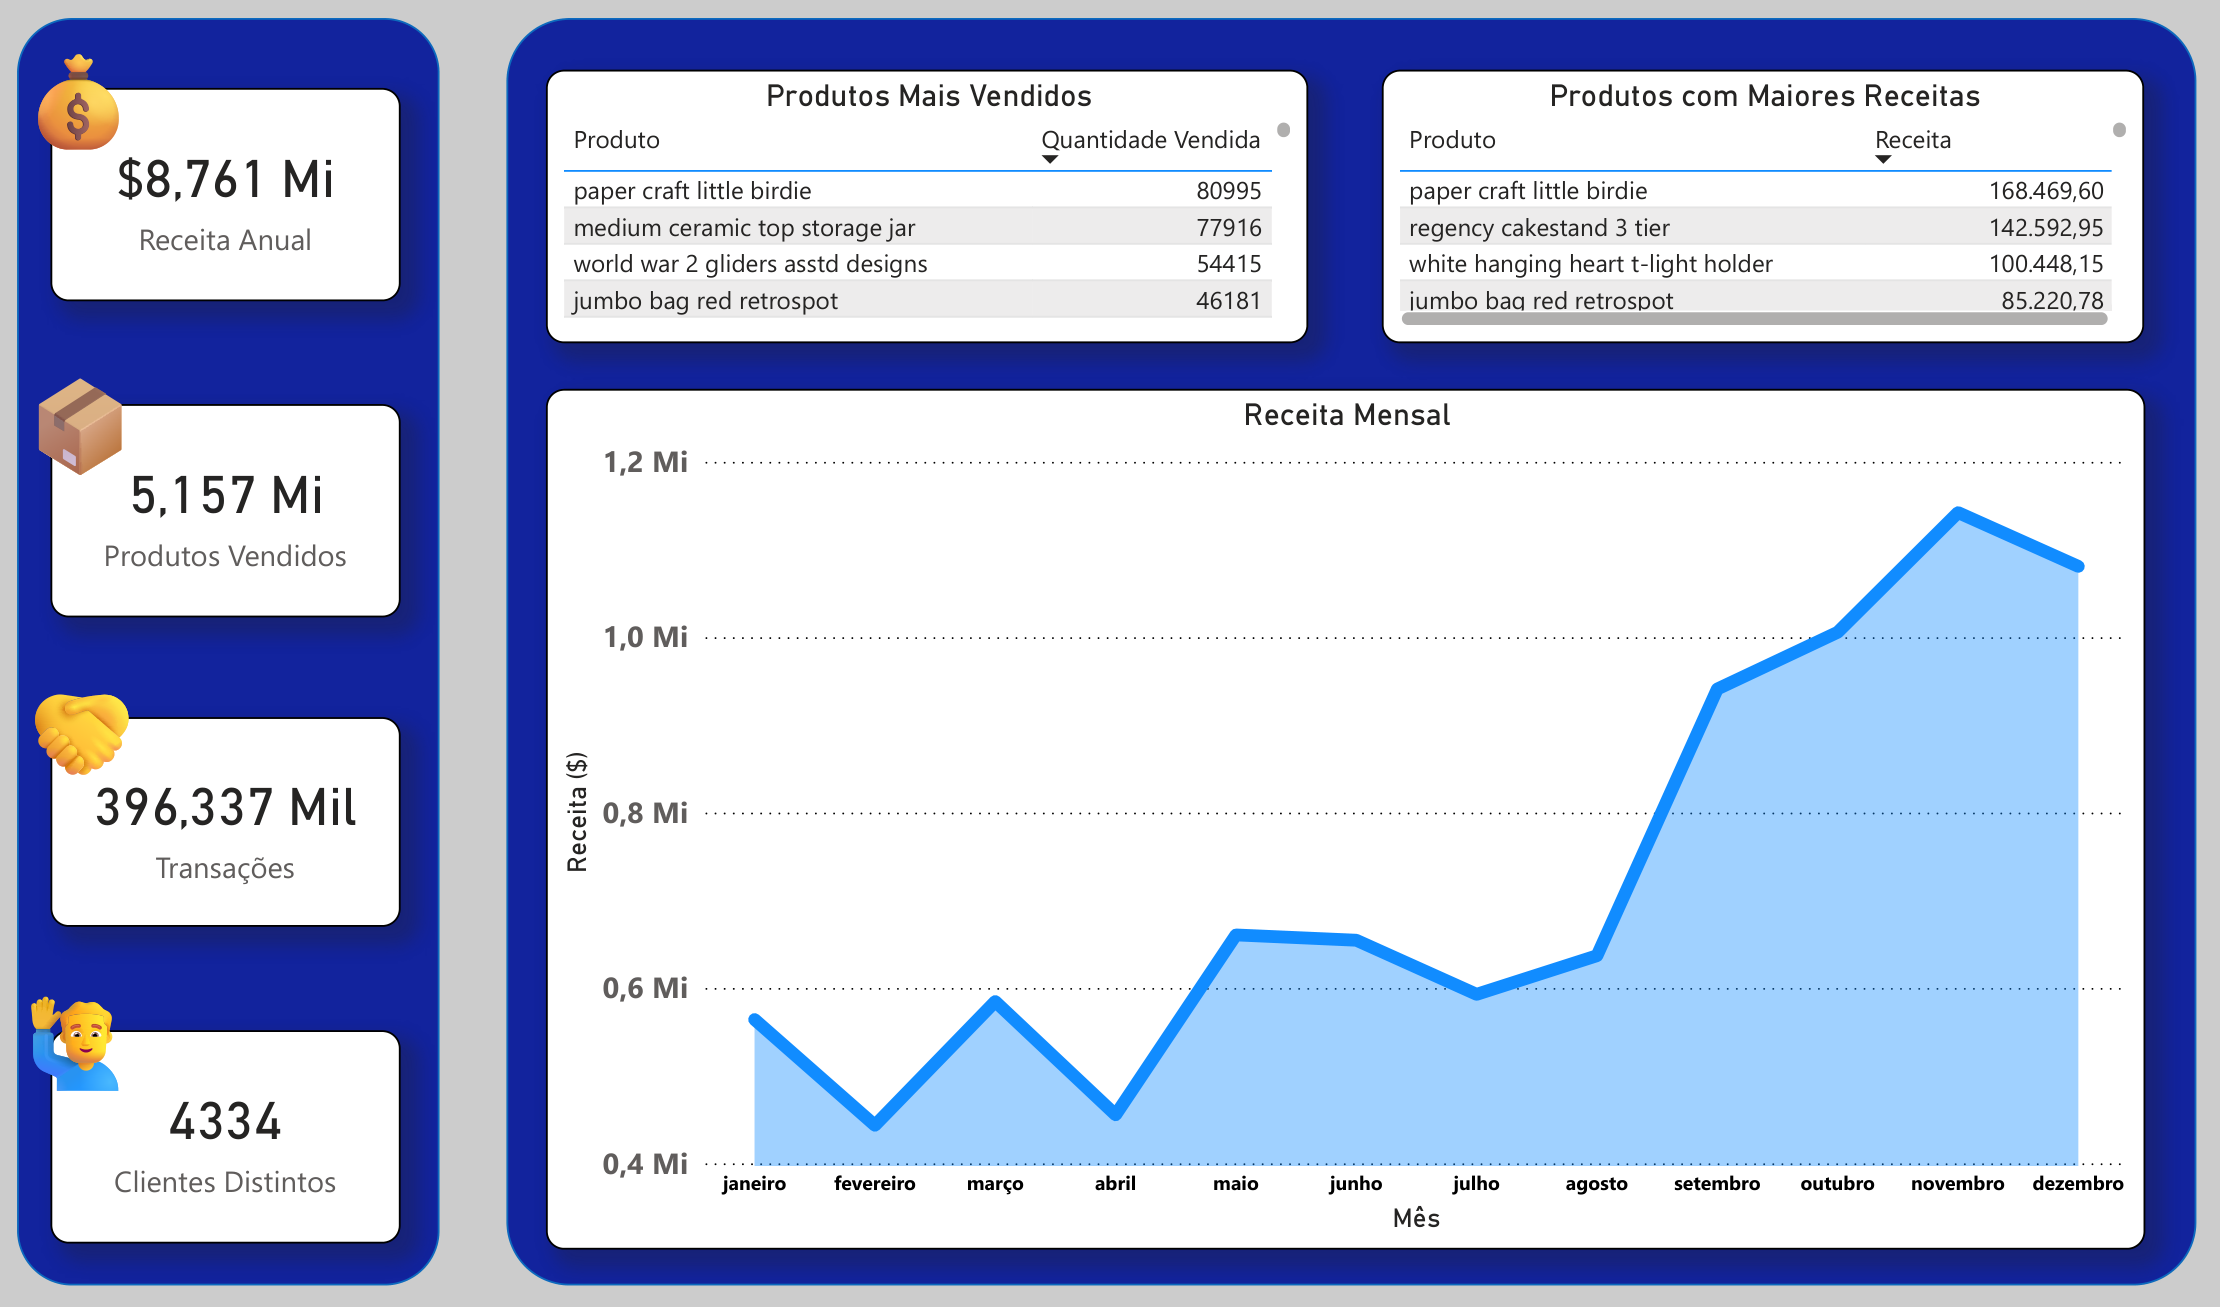

What the dashboard file says about the page in this screenshot:
{"tool":"powerbi","page":{"name":"Página 1","canvas":[1280,720],"ordinal":0},"visuals":[{"type":"shape","box":[313.3,11.7,926.7,695],"z":0},{"type":"shape","box":[45,11.7,231.7,695],"z":1000},{"type":"card","fields":{"Values":["Sum(online_retail.receita)"]},"box":[63.3,50,191.7,116.7],"z":2000},{"type":"card","fields":{"Values":["Sum(online_retail.quantity_cleaned)"]},"box":[63,222.8,191.7,116.7],"z":3000},{"type":"card","fields":{"Values":["CountNonNull(online_retail.invoice_no)"]},"box":[63,395.6,191.7,115],"z":4000},{"type":"card","fields":{"Values":["Count(online_retail.customer_id)"]},"box":[63.3,566.7,191.7,116.7],"z":5000},{"type":"areaChart","title":"Receita Mensal","fields":{"Y":["Sum(online_retail.receita)"],"Category":["online_retail.invoice_date.Variation.Hierarquia de datas.Mês"]},"box":[335,215,876.7,471.7],"z":6000},{"type":"tableEx","title":"Produtos com Maiores Receitas","fields":{"Values":["online_retail.description_cleaned","Sum(online_retail.receita)"]},"box":[793.3,40,418.3,150],"z":7000},{"type":"tableEx","title":"Produtos Mais Vendidos","fields":{"Values":["online_retail.description_cleaned","Sum(online_retail.quantity_cleaned)"]},"box":[335,40,418.3,150],"z":8000},{"type":"textbox","box":[36.7,13.3,88.3,90],"z":9000},{"type":"textbox","box":[38.3,191.7,80,81.7],"z":10000},{"type":"textbox","box":[41.7,356.7,80,81.7],"z":11000},{"type":"textbox","box":[35,530,80,81.7],"z":11001}]}

Visuals, with their boxes in screenshot pixels (x1, y1, x2, y2):
shape: detection(501, 10, 2205, 1288)
shape: detection(8, 10, 434, 1288)
card - Sum(online_retail.receita): detection(41, 80, 394, 295)
card - Sum(online_retail.quantity_cleaned): detection(41, 398, 393, 613)
card - CountNonNull(online_retail.invoice_no): detection(41, 716, 393, 927)
card - Count(online_retail.customer_id): detection(41, 1030, 394, 1245)
"Receita Mensal" areaChart: detection(541, 384, 2152, 1251)
"Produtos com Maiores Receitas" tableEx: detection(1383, 62, 2152, 338)
"Produtos Mais Vendidos" tableEx: detection(541, 62, 1310, 338)
textbox: detection(0, 13, 155, 178)
textbox: detection(0, 341, 142, 491)
textbox: detection(2, 644, 149, 794)
textbox: detection(0, 963, 136, 1113)
